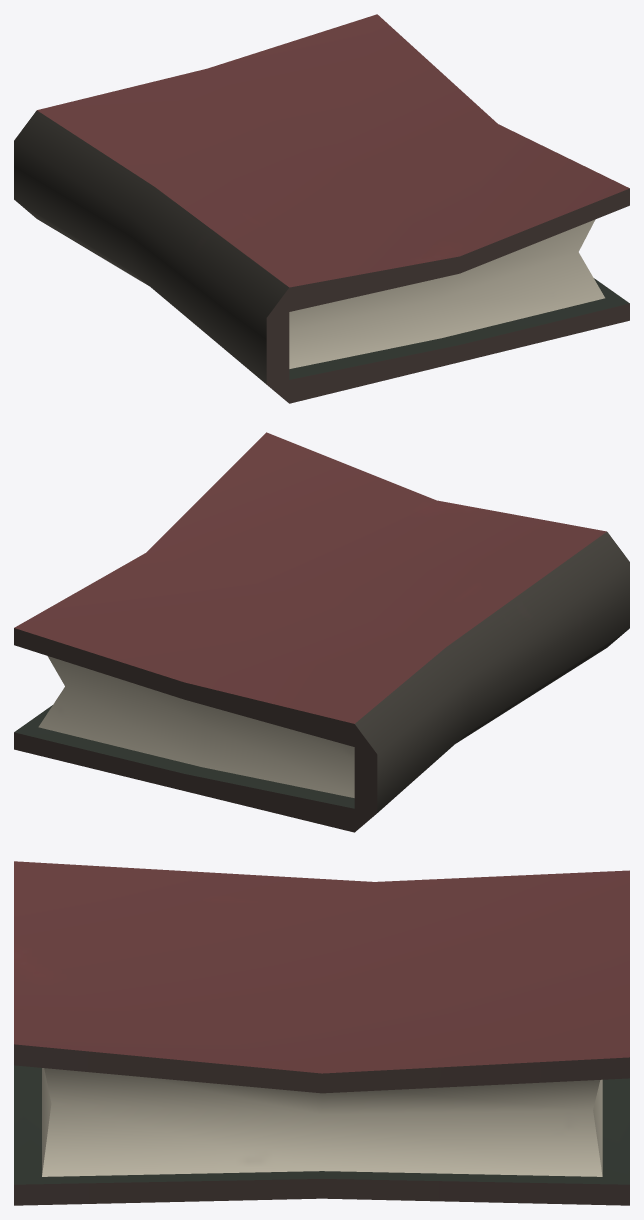
File: buku.fbx
3 views of the same model, one above another, from view 1: azimuth 30°, elevation 25°; view 2: azimuth 150°, elevation 25°; view 3: azimuth 270°, elevation 25° (orthographic). The views are drawn at different scales.
Visible parts, largest first — view 1: book_1.015; view 2: book_1.015; view 3: book_1.015.
Boxes of the visible parts, <box> form: book_1.015: <box>14,14,629,403</box>; book_1.015: <box>14,432,629,832</box>; book_1.015: <box>14,861,629,1205</box>.
Bounding box in the file's own units: 59.47 × 20.69 × 71.59.
1 material, 1 textured.
